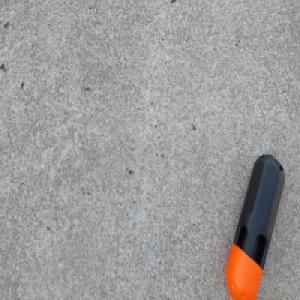PlasticPart: (224, 153, 286, 300)
